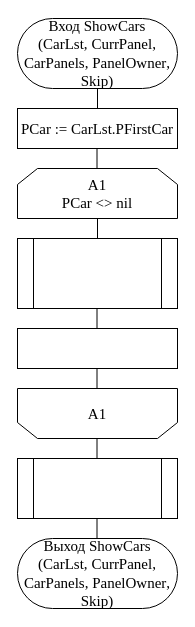
The diagram is 195 pixels wide and 627 high, and some of its shapes have lost their labels. The shapes that lost their labels are listed below. From the top down, each one's centre as x and y in pixels, then its label:
point (97, 273): SetCarOnPanel( CarPanels[CurrPanel] ,CurrPanel, PCar, PanelOwner, Skip)
point (97, 348): PCar := PCar^.PNextCar
point (97, 488): SetStartFavs (ListCarFav, CarInfoPanel)
